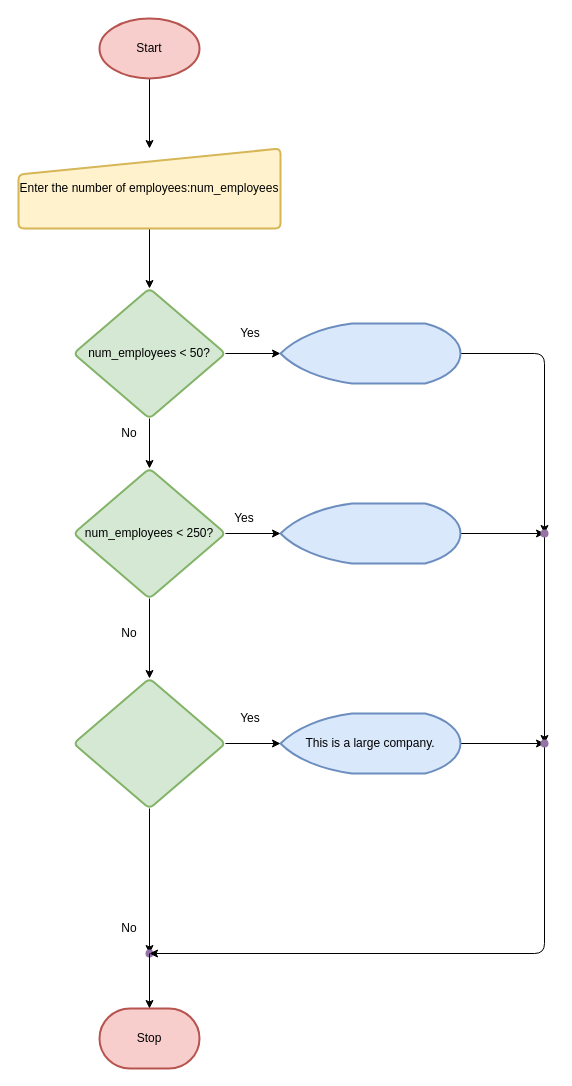
Some shapes in this 572 by 1086 pixel diagram are drawn without their labels. The centre of each missing label's shape, as x and y in pixels:
"num_employees >= 250?" belongs at (x=149, y=743).
"This is a medium company." belongs at (x=370, y=533).
"This is a small company." belongs at (x=370, y=353).
